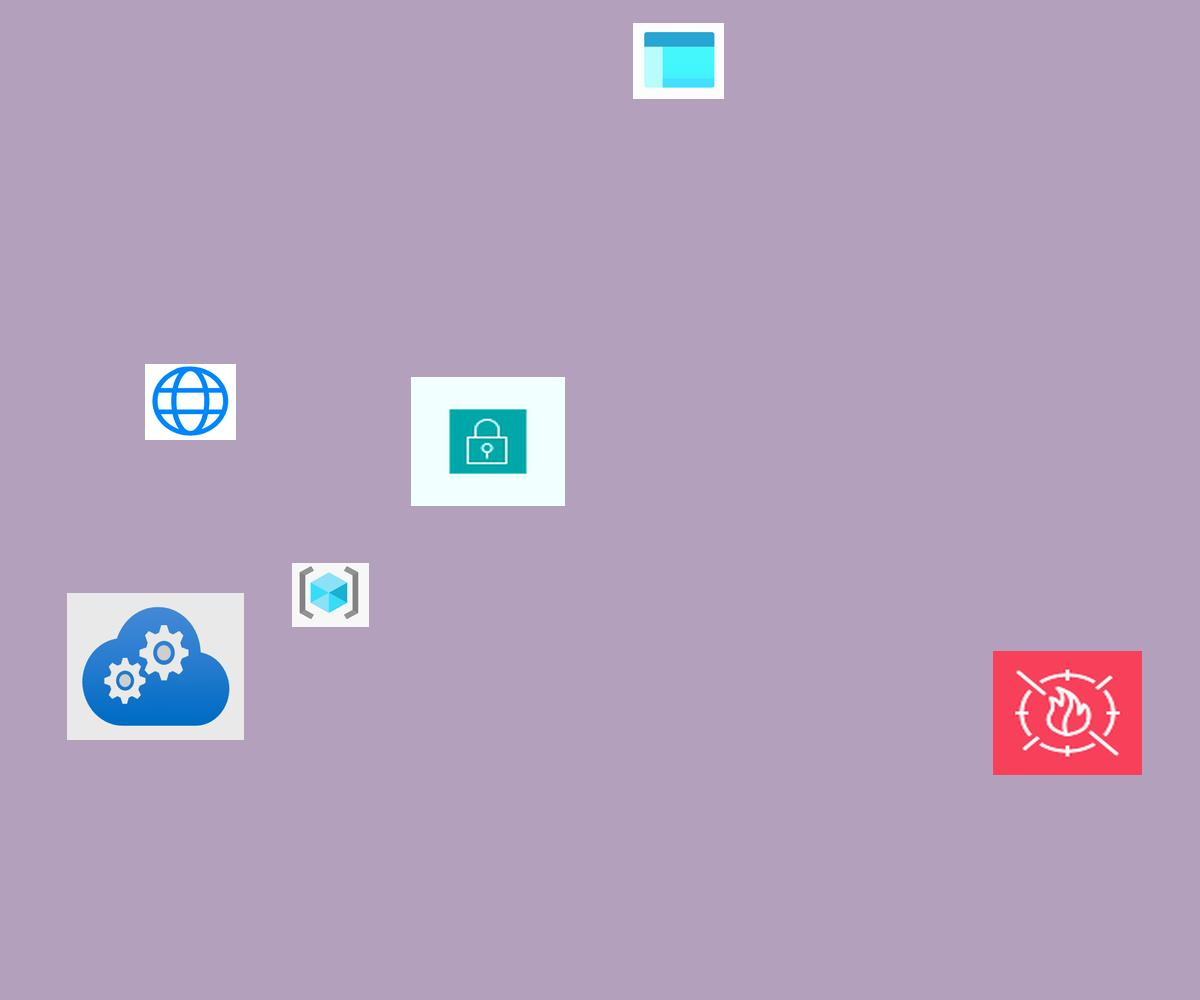AWS-Private-subnet: (411, 377, 565, 506)
AWS-WAF: (993, 651, 1142, 775)
Azure_cloud_services: (67, 593, 244, 740)
Azure_http: (145, 364, 236, 440)
Azure_management-portal: (633, 23, 724, 99)
Azure_resource_group: (292, 563, 369, 627)
